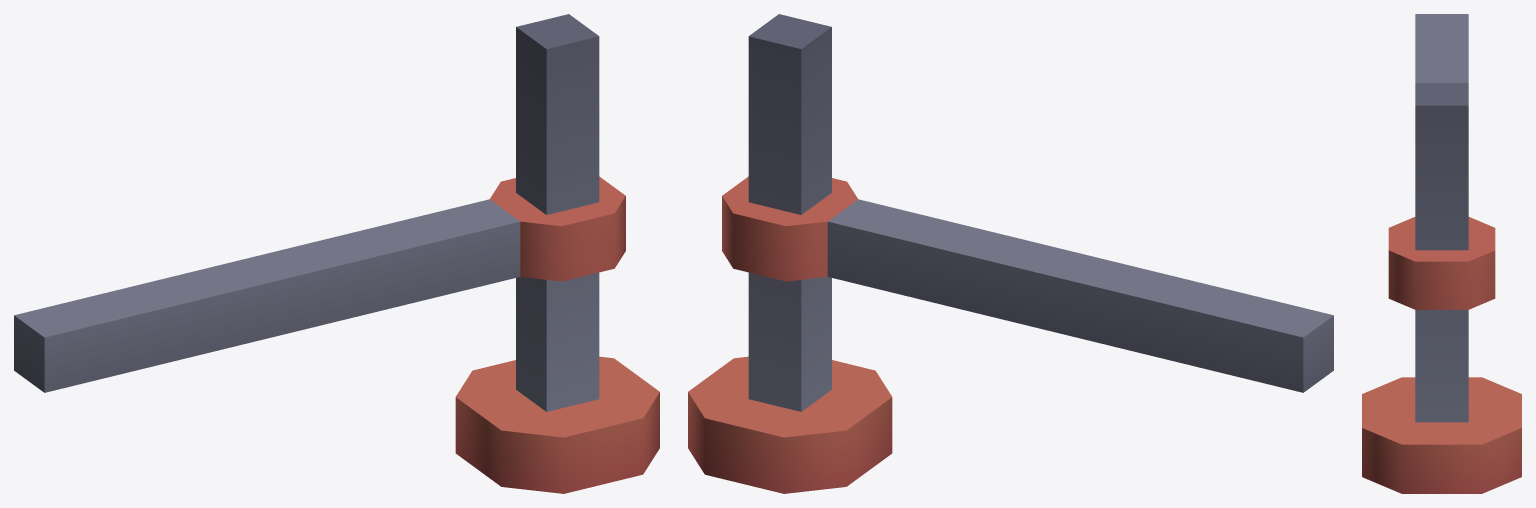
Rendered from fence.obj.
The picture shows the model from 3 angles, left to right: view 1: azimuth 30°, elevation 25°; view 2: azimuth 150°, elevation 25°; view 3: azimuth 270°, elevation 25°; orthographic projection. The views are drawn at different scales.
Parts seen in each view (by area): view 1: fence; view 2: fence; view 3: fence.
Boxes of the visible parts, box(x1,y1,x2,y2) form: fence: box(14, 14, 659, 493); fence: box(688, 14, 1333, 493); fence: box(1362, 14, 1521, 493).
Size of the model in its own units: 0.575 by 0.379 by 0.15.
